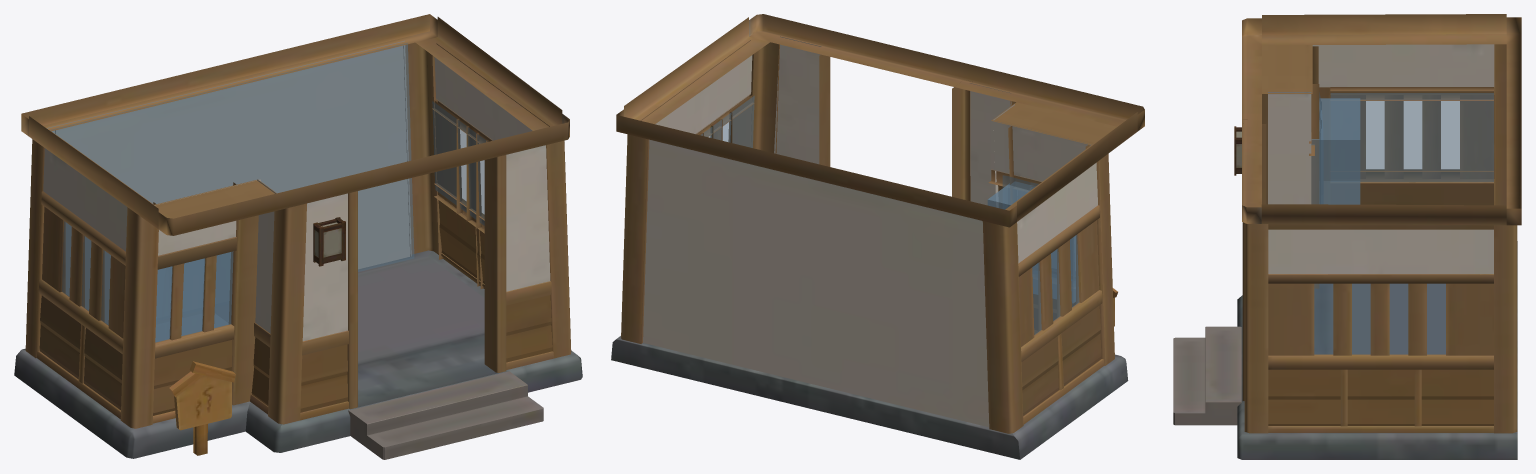
The model's file is wall-nc-japanese.glb.
The picture shows the model from 3 angles, left to right: view 1: azimuth 30°, elevation 25°; view 2: azimuth 150°, elevation 25°; view 3: azimuth 270°, elevation 25°; orthographic projection. The views are drawn at different scales.
Size of the model in its own units: 36.95 by 21.76 by 27.3.
Materials: 7 (3 with a texture image).
